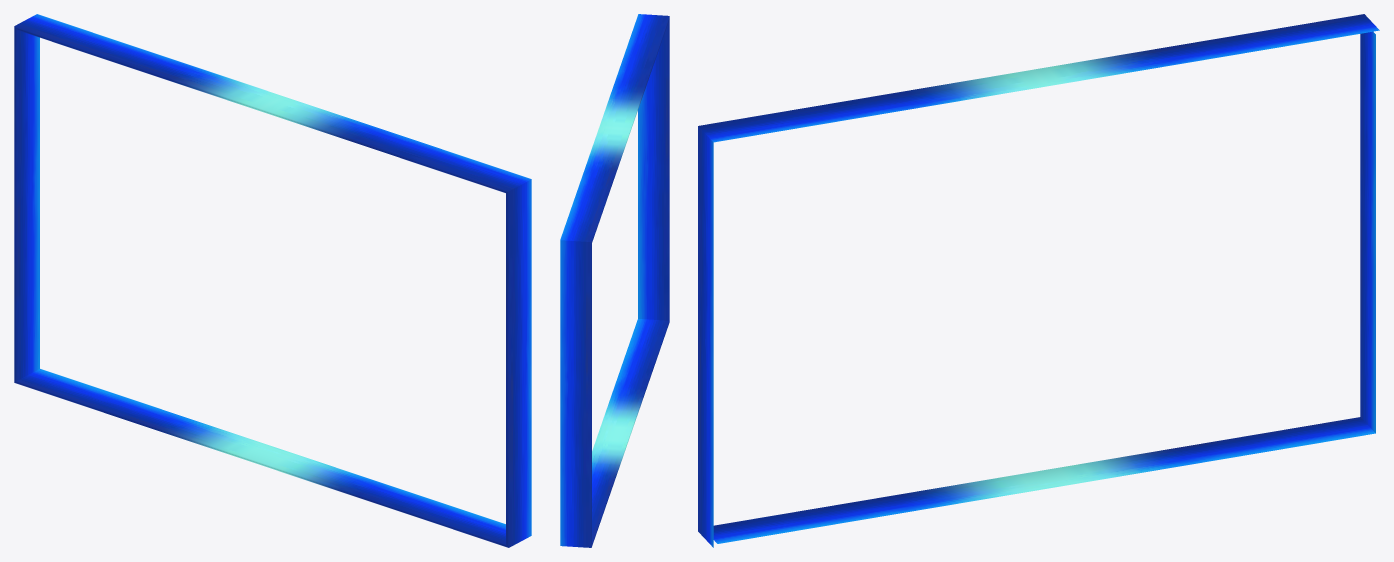
File: screen_big.glb
3 views of the same model, side by side, from view 1: azimuth 30°, elevation 25°; view 2: azimuth 150°, elevation 25°; view 3: azimuth 270°, elevation 25° (orthographic). The views are drawn at different scales.
Parts seen in each view (by area): view 1: screen_bigShape:0, screen_bigShape:1; view 2: screen_bigShape:1, screen_bigShape:0; view 3: screen_bigShape:0, screen_bigShape:1.
Part boxes in pixels (bbox=[...]): screen_bigShape:0: bbox=[261, 96, 531, 547]; screen_bigShape:1: bbox=[14, 14, 283, 465]; screen_bigShape:1: bbox=[560, 127, 630, 547]; screen_bigShape:0: bbox=[599, 14, 669, 433]; screen_bigShape:0: bbox=[698, 70, 1046, 547]; screen_bigShape:1: bbox=[1031, 14, 1379, 488].
Bounding box in the file's own units: 212 × 312 × 476.
1 material, 1 textured.
